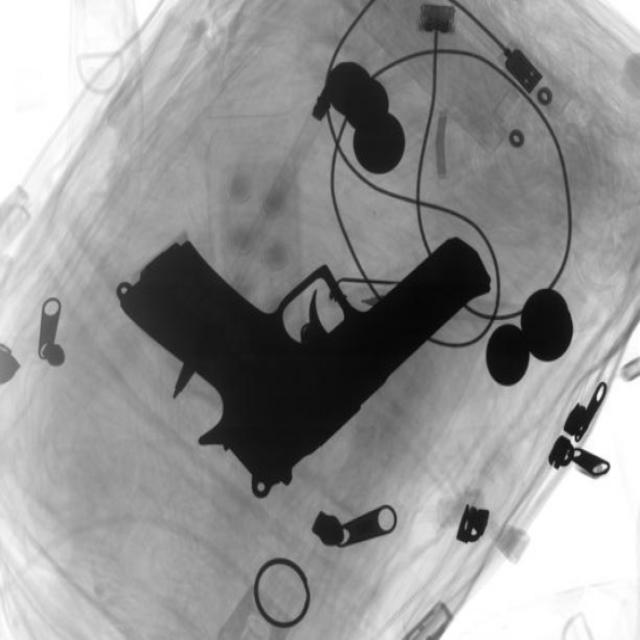GUN: (130, 200, 494, 485)
